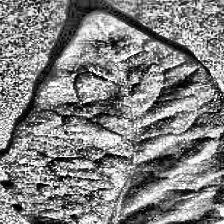spider mites: (0, 11, 224, 224)
